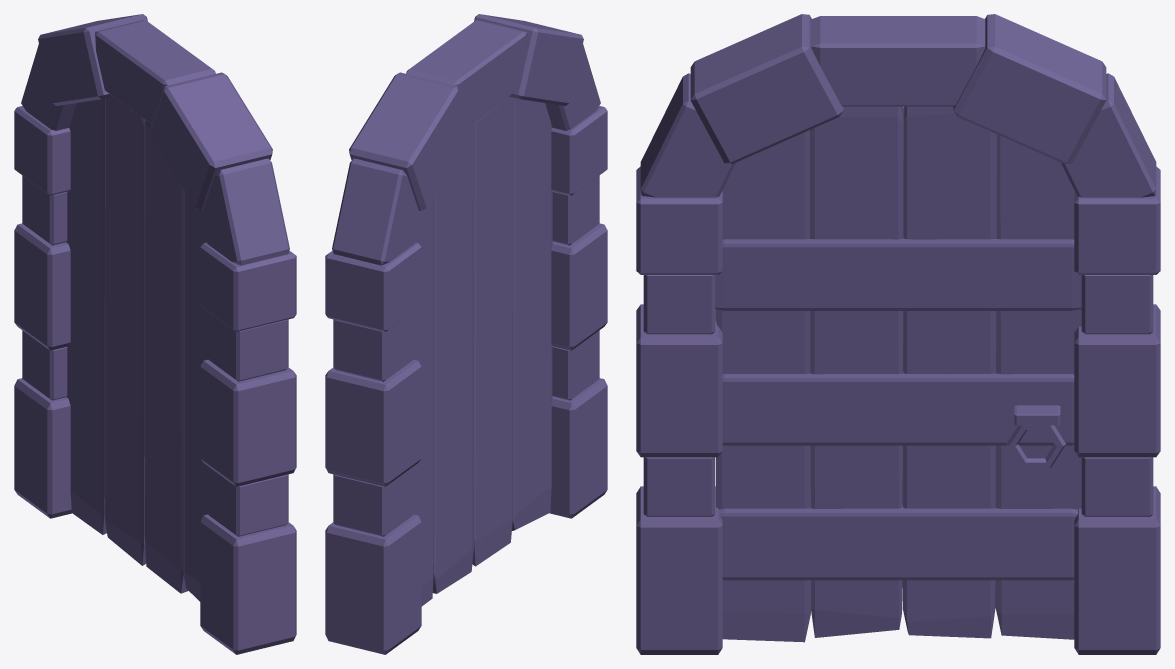
File: door.fbx
3 views of the same model, side by side, from view 1: azimuth 30°, elevation 25°; view 2: azimuth 150°, elevation 25°; view 3: azimuth 270°, elevation 25° (orthographic). The views are drawn at different scales.
Parts seen in each view (by area): view 1: Cube, Cube.002, Cube.006, Cube.013, Cube.009, Cube.011, Cube.016, Cube.003, Cube.008; view 2: Cube, Cube.002, Cube.006, Cube.013, Cube.009, Cube.011, Cube.016, Cube.003, Cube.008; view 3: Cube, Cube.001, Cube.013, Cube.002, Cube.006, Cube.016, Cube.009, Cube.011, Cube.003, Cube.008, Torus.
Part boxes in pixels (x1,y1,x2,y2): Cube: (66,96,208,601); Cube.002: (14,378,296,654); Cube.006: (14,223,296,486); Cube.013: (38,14,272,210); Cube.009: (14,106,296,331); Cube.011: (21,44,289,265); Cube.016: (95,20,215,124); Cube.003: (22,330,288,536); Cube.008: (22,175,288,381); Cube: (413,96,552,606); Cube.002: (325,378,607,654); Cube.006: (325,223,607,486); Cube.013: (349,14,583,210); Cube.009: (325,106,607,331); Cube.011: (332,44,600,265); Cube.016: (406,20,526,124); Cube.003: (333,330,599,536); Cube.008: (333,175,599,381); Cube: (715,106,1081,642); Cube.001: (715,237,1081,580); Cube.013: (690,14,1106,164); Cube.002: (636,486,1160,654); Cube.006: (636,304,1160,457); Cube.016: (811,16,985,106); Cube.009: (636,166,1160,274); Cube.011: (640,73,1156,197); Cube.003: (643,457,1153,516); Cube.008: (643,275,1153,334); Torus: (1006,405,1065,467).
Bounding box in the file's own units: 117 × 871 × 679.
